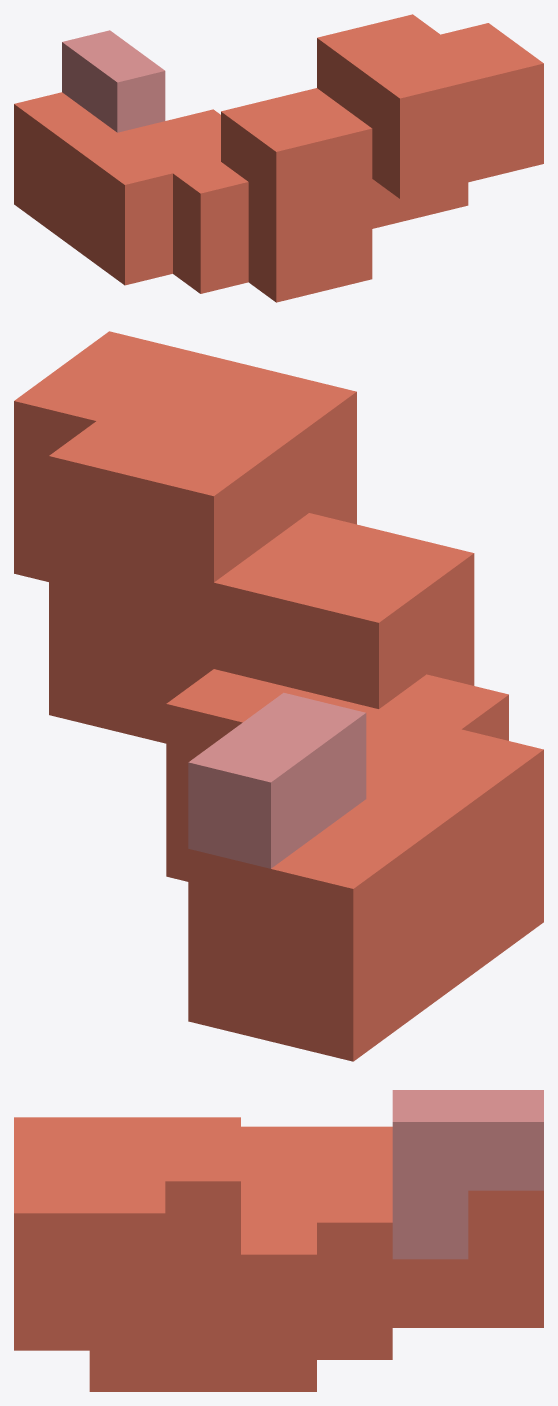
File: octopus__arm_6.glb
3 views of the same model, one above another, from view 1: azimuth 30°, elevation 25°; view 2: azimuth 150°, elevation 25°; view 3: azimuth 270°, elevation 25° (orthographic). The views are drawn at different scales.
Visible parts, largest first — view 1: octopus__arm_6; view 2: octopus__arm_6; view 3: octopus__arm_6.
Boxes of the visible parts, x1,y1,x2,y2 form: octopus__arm_6: [14, 14, 543, 302]; octopus__arm_6: [14, 331, 543, 1061]; octopus__arm_6: [14, 1090, 543, 1391].
Size of the model in its own units: 0.7 by 0.4 by 0.7.
Materials: 1 (1 with a texture image).
